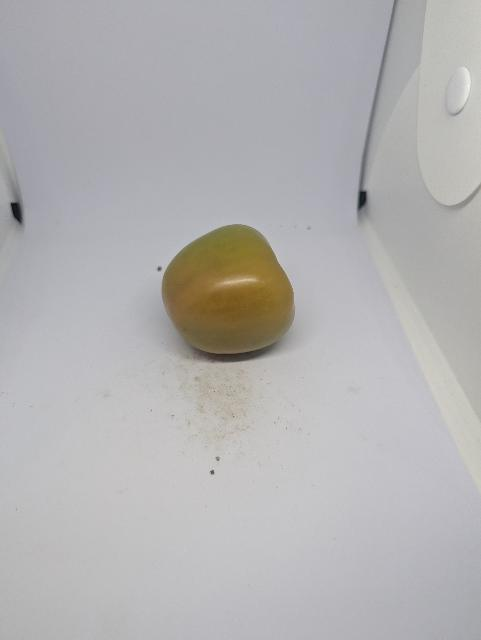breaker: (162, 224, 295, 354)
